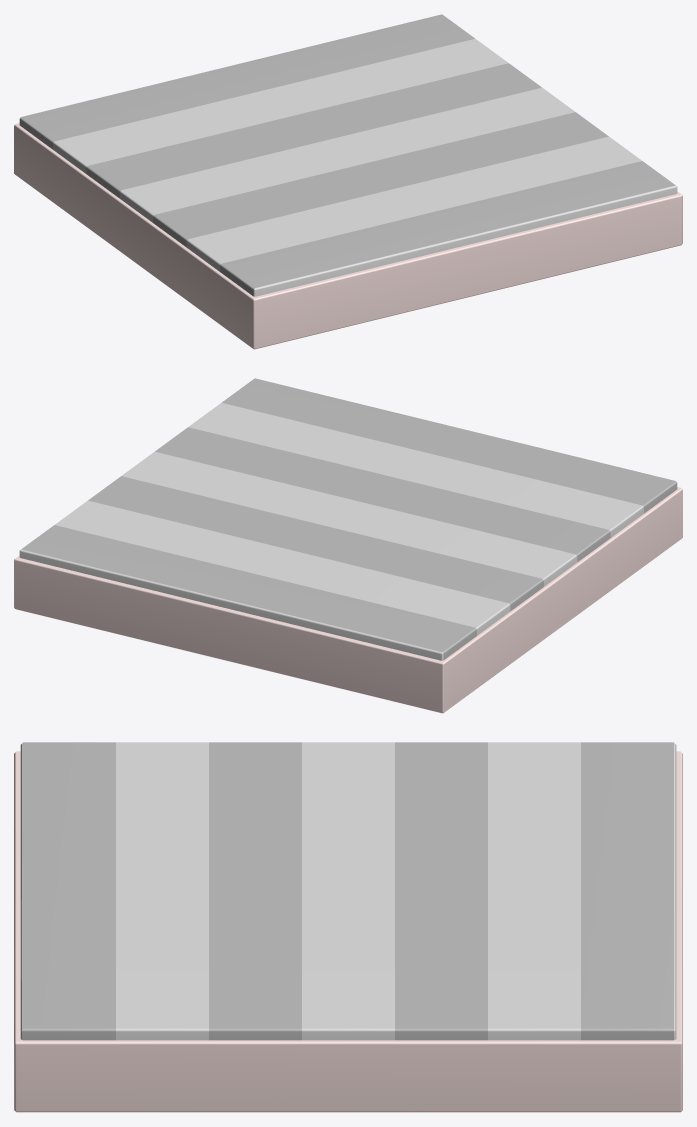
The model's file is Store_16_Base_1.glb.
3 views of the same model, one above another, from view 1: azimuth 30°, elevation 25°; view 2: azimuth 150°, elevation 25°; view 3: azimuth 270°, elevation 25° (orthographic). The views are drawn at different scales.
Visible parts, largest first — view 1: Store_16_Base_1; view 2: Store_16_Base_1; view 3: Store_16_Base_1.
Part boxes in pixels (x1,y1,x2,y2): Store_16_Base_1: (14, 14, 682, 349); Store_16_Base_1: (14, 378, 682, 713); Store_16_Base_1: (14, 742, 682, 1112).
Size of the model in its own units: 12.35 by 1.62 by 11.95.
Materials: 1 (1 with a texture image).
